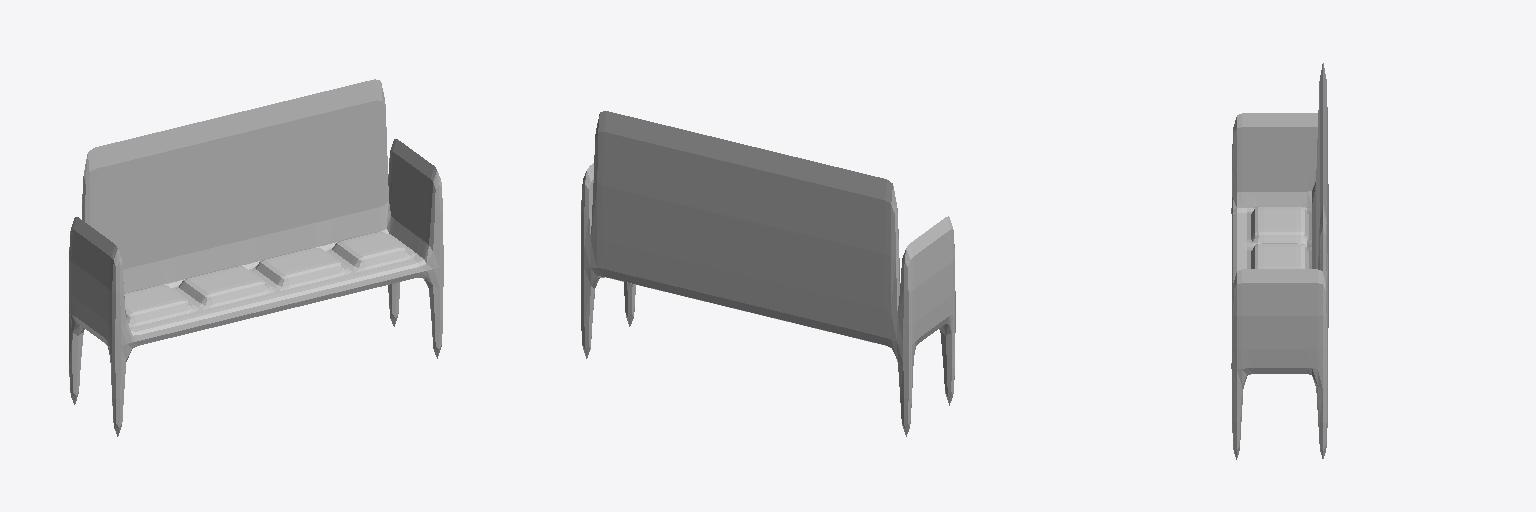
Rendered from sofa.obj.
3 renders of one model, left to right at view 1: azimuth 30°, elevation 25°; view 2: azimuth 150°, elevation 25°; view 3: azimuth 270°, elevation 25°, orthographic.
Visible parts, largest first — view 1: Cubo; view 2: Cubo; view 3: Cubo.
Part boxes in pixels (left/top/right/bottom): Cubo: left=69, top=79, right=443, bottom=436; Cubo: left=581, top=111, right=955, bottom=436; Cubo: left=1231, top=63, right=1328, bottom=459.
Bounding box in the file's own units: 20.32 × 14.81 × 5.14.